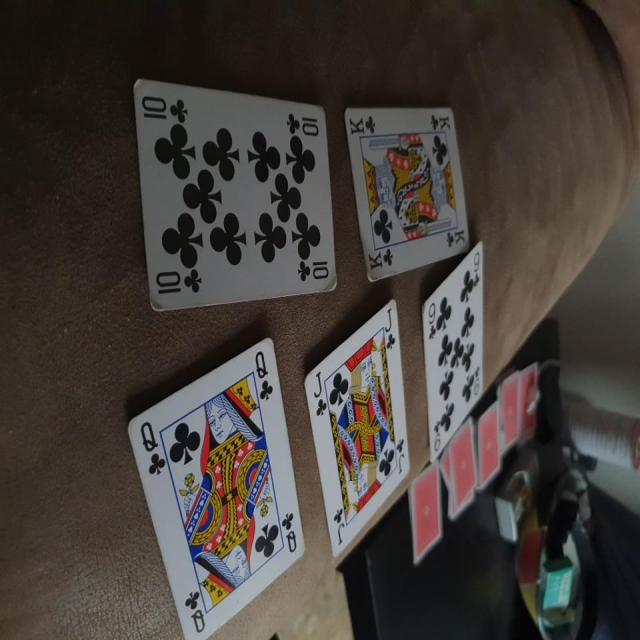10 Trefoils: (130, 73, 338, 312)
9 Trefoils: (420, 241, 490, 462)
J Trefoils: (301, 298, 413, 556)
K Trefoils: (342, 103, 474, 283)
Q Trefoils: (126, 333, 306, 640)
